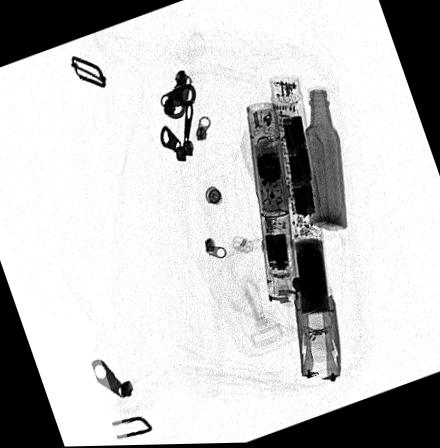Baton: (267, 74, 341, 384), (244, 101, 298, 307)
